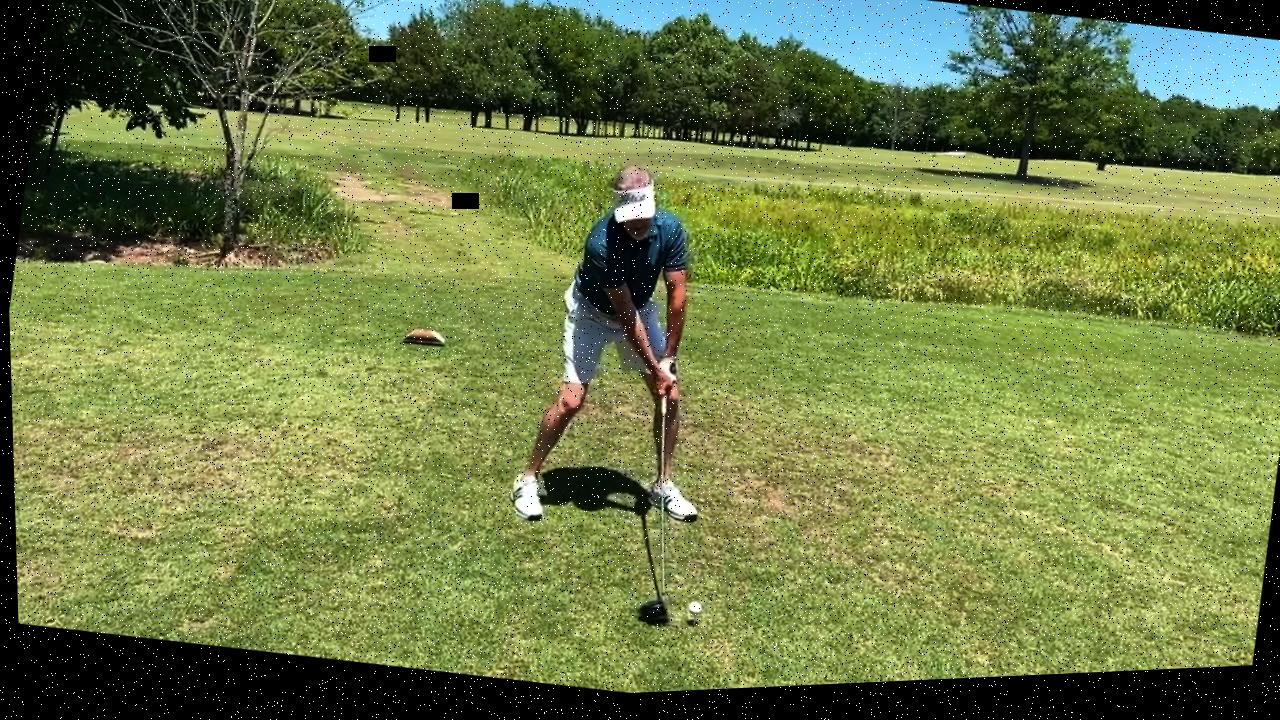ClubHead: (631, 592, 675, 634)
GolfBall: (682, 605, 702, 624)
